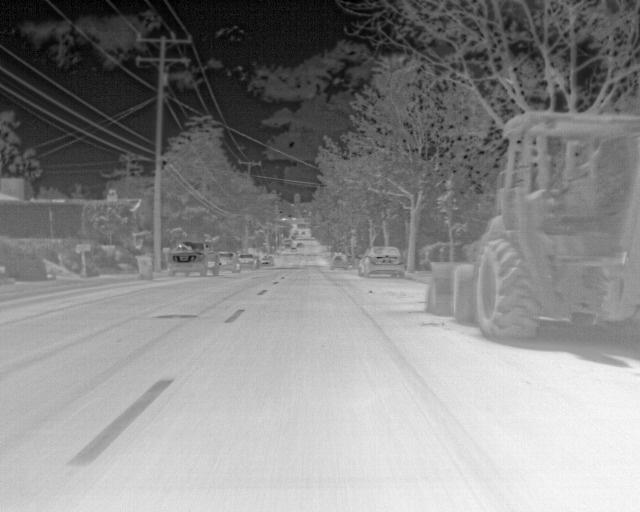car: (168, 240, 219, 278), (357, 245, 406, 280), (216, 250, 240, 272), (328, 252, 347, 270), (238, 251, 258, 268), (259, 254, 274, 267)
